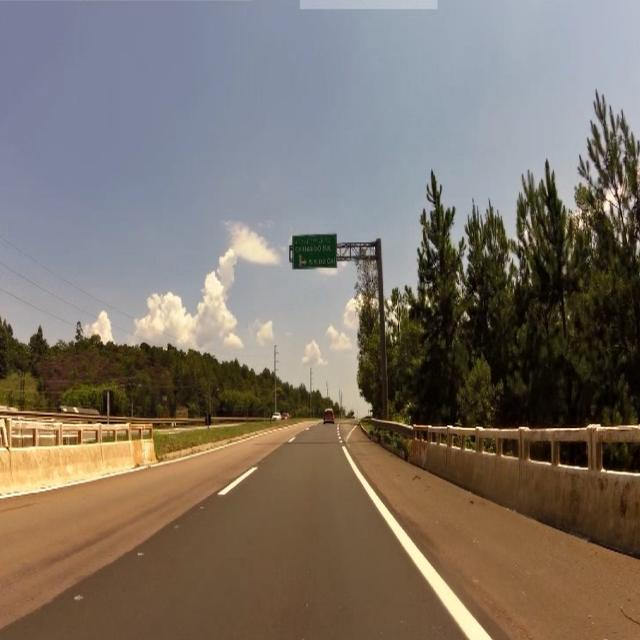I-4: (293, 236, 337, 269)
